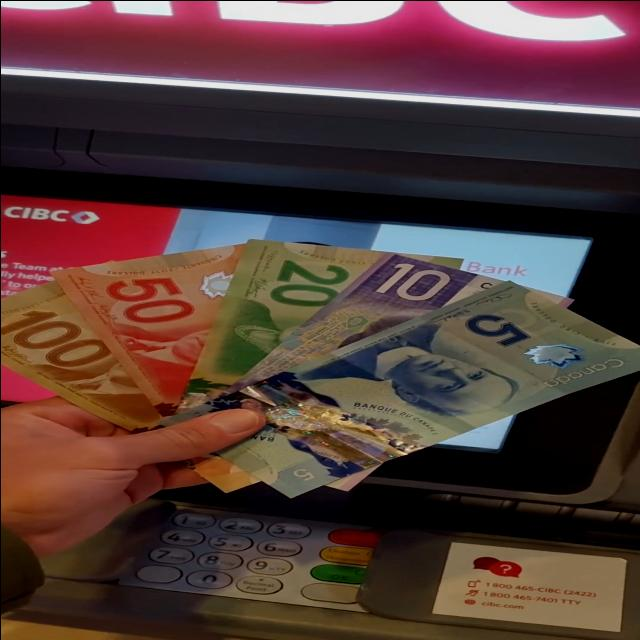10 cad: (233, 255, 500, 392)
100 cad: (0, 279, 180, 434)
20 cad: (179, 239, 381, 409)
5 cad: (232, 281, 640, 474)
50 cad: (62, 242, 242, 416)
